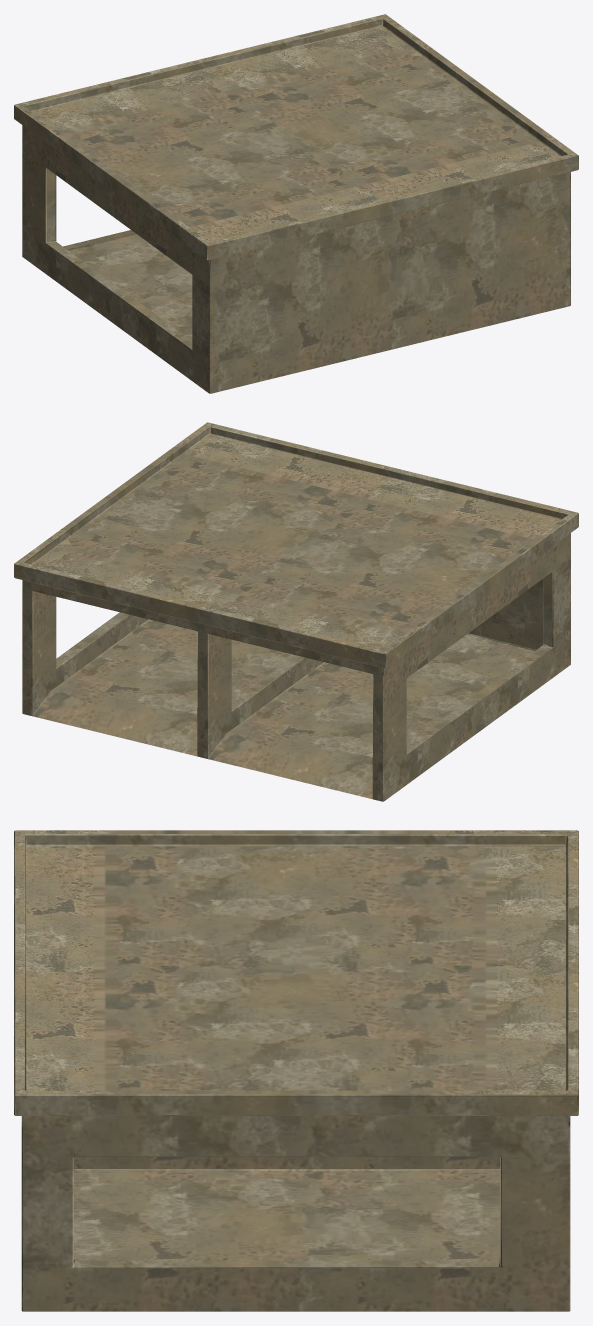
The model's file is mil_garage.glb.
3 renders of one model, top to bottom at view 1: azimuth 30°, elevation 25°; view 2: azimuth 150°, elevation 25°; view 3: azimuth 270°, elevation 25°, orthographic. The views are drawn at different scales.
Visible parts, largest first — view 1: mil_garage; view 2: mil_garage; view 3: mil_garage.
Boxes of the visible parts, <box> form: mil_garage: <box>14,14,578,393</box>; mil_garage: <box>14,422,578,801</box>; mil_garage: <box>14,830,578,1311</box>.
Bounding box in the file's own units: 10.3 × 4 × 9.27.
2 materials, 1 textured.
